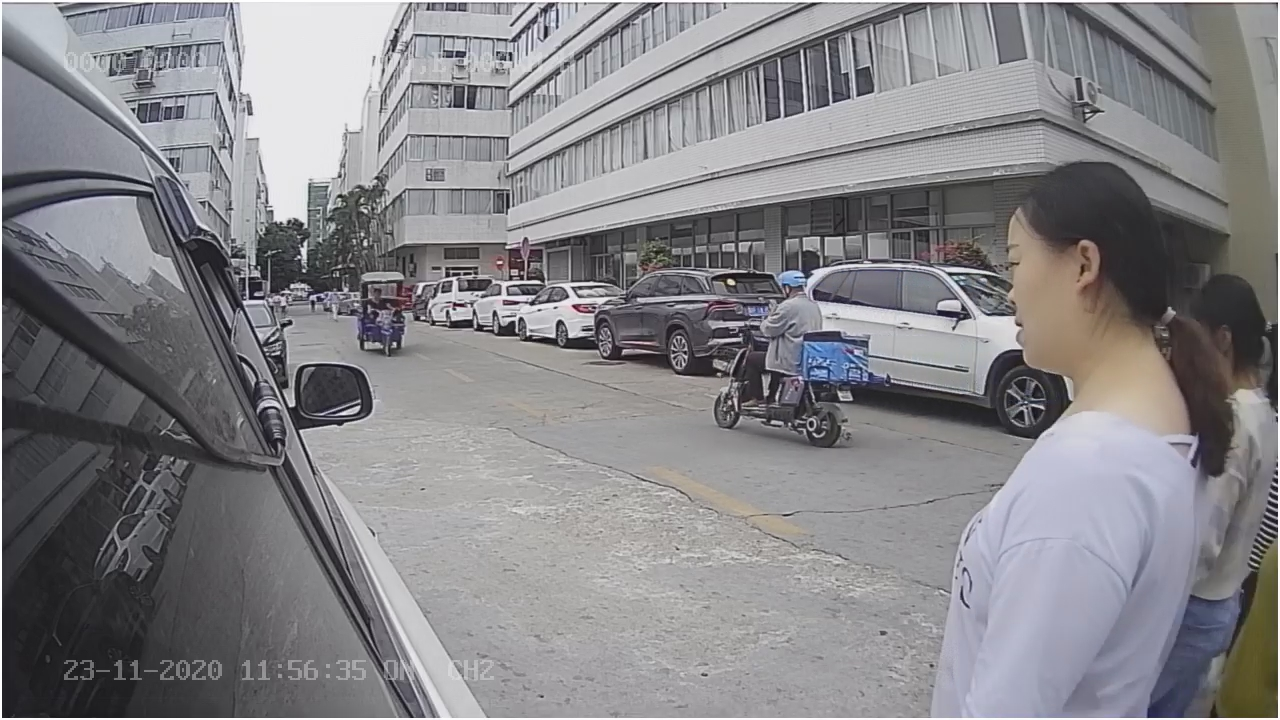person: (936, 144, 1199, 718)
